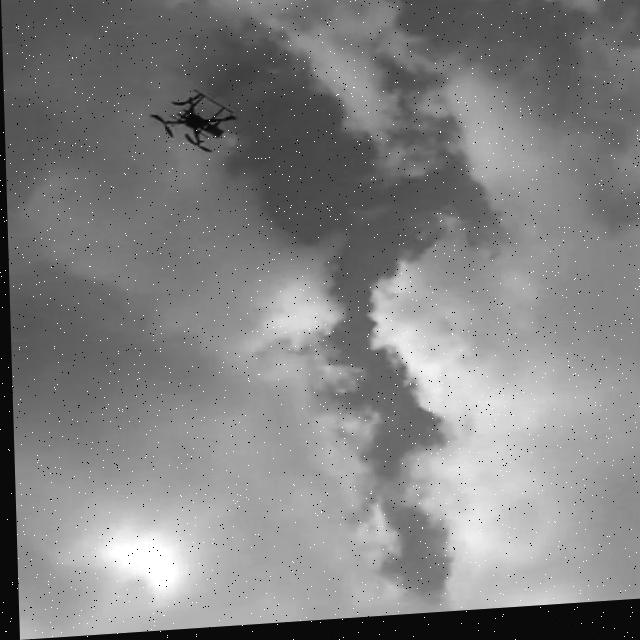drone: (142, 90, 240, 163)
